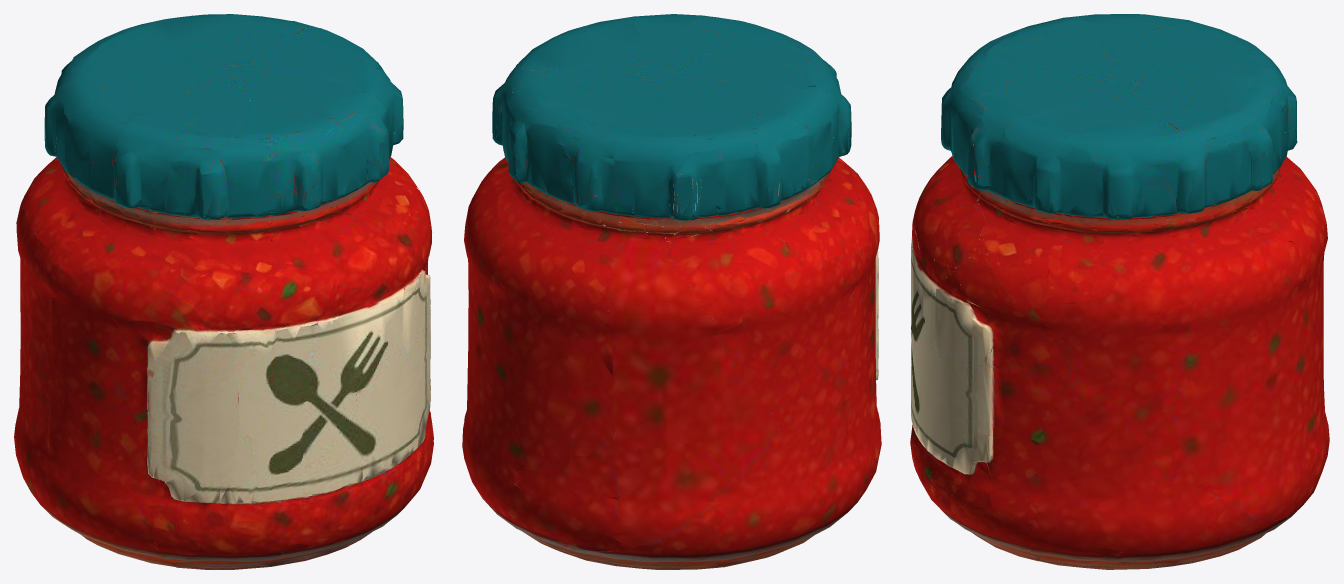
Rendered from salsa_jar.glb.
3 renders of one model, left to right at view 1: azimuth 30°, elevation 25°; view 2: azimuth 150°, elevation 25°; view 3: azimuth 270°, elevation 25°, orthographic.
Visible parts, largest first — view 1: Mesh_0; view 2: Mesh_0; view 3: Mesh_0.
Boxes of the visible parts, x1=… form: Mesh_0: x1=14, y1=14, x2=433, y2=569; Mesh_0: x1=462, y1=14, x2=881, y2=569; Mesh_0: x1=910, y1=14, x2=1329, y2=569.
Bounding box in the file's own units: 0.9976 × 1.13 × 1.
Materials: 1 (1 with a texture image).
